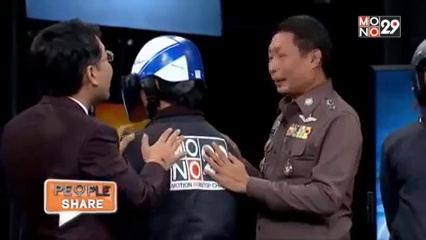helmet: (118, 34, 211, 113)
